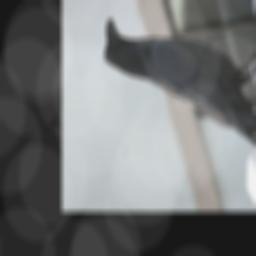Crow: (95, 0, 256, 184)
